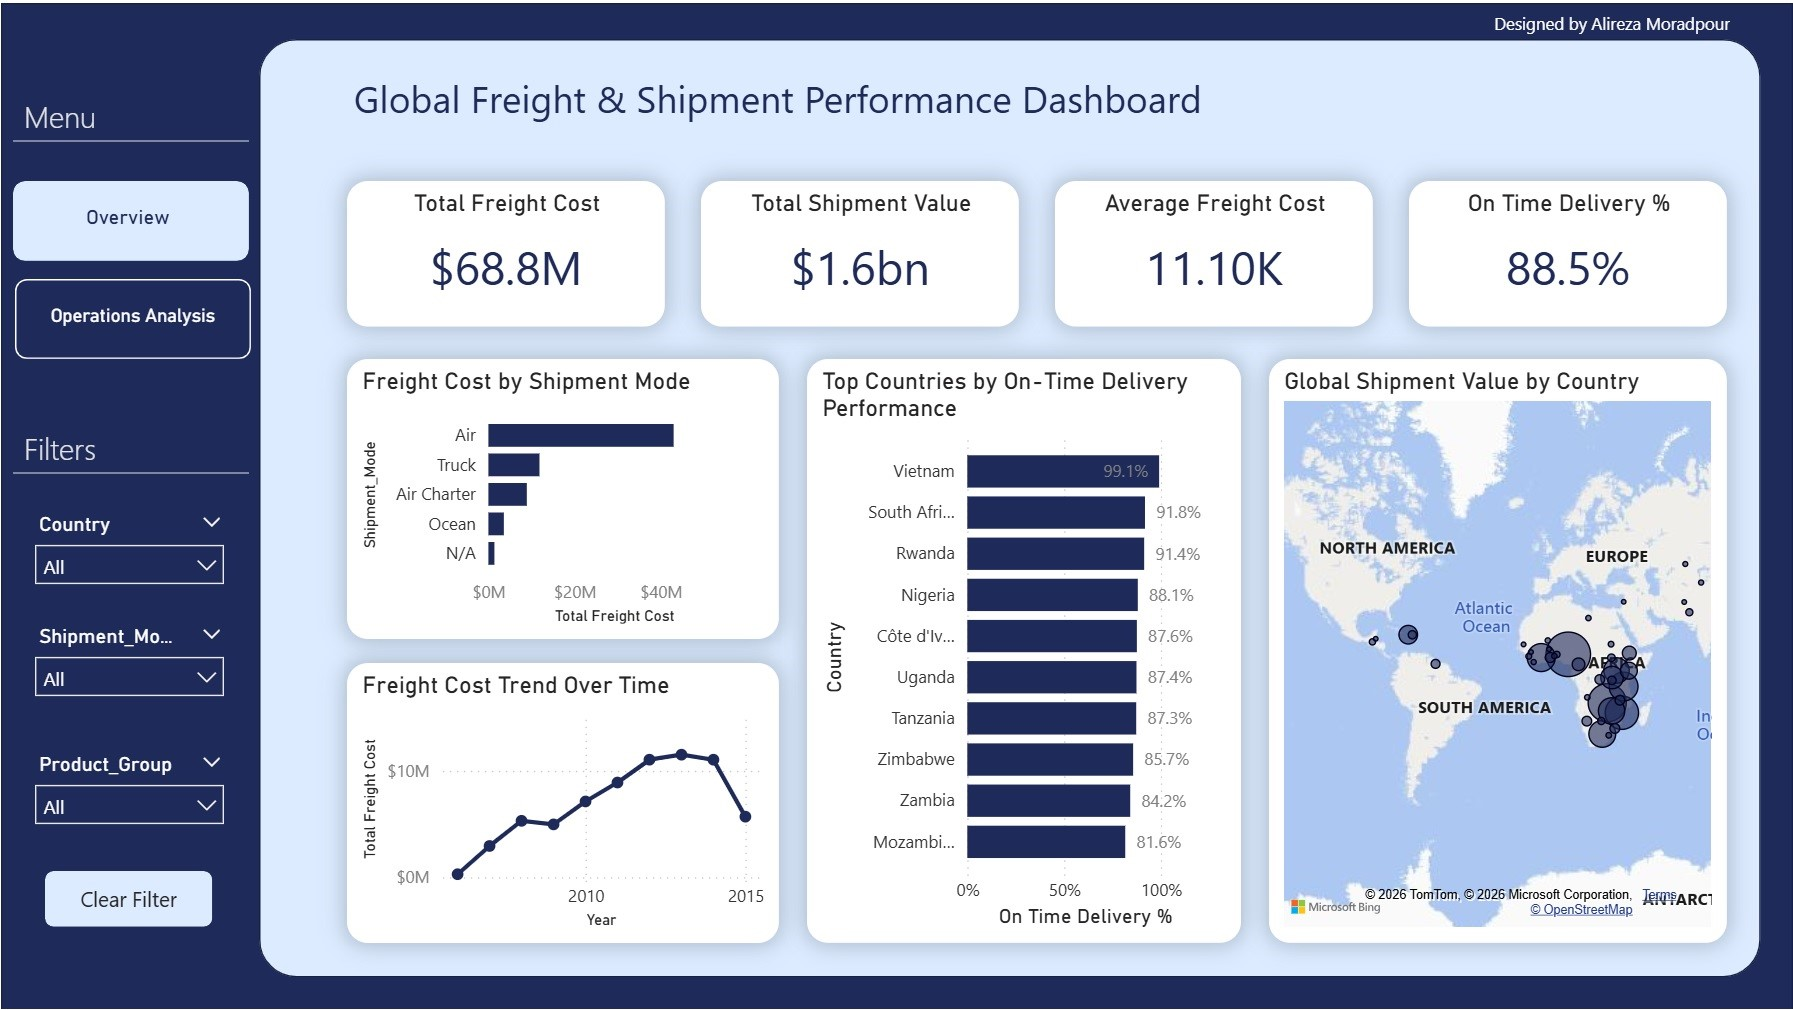

The dashboard page shown, as its layout file describes it:
{"tool":"powerbi","page":{"name":"Overview","canvas":[1280,720],"ordinal":0},"visuals":[{"type":"shape","box":[0,0,1280,720],"z":0},{"type":"shape","box":[184,26.1,1072.6,670.2],"z":1000},{"type":"card","title":"Total Freight Cost","fields":{"Values":["SCMS_Delivery_History_Dataset.Total Freight Cost"]},"box":[247.1,127.1,227,104],"z":2000},{"type":"card","title":"Total Shipment Value","fields":{"Values":["SCMS_Delivery_History_Dataset.Total Shipment Value"]},"box":[500,127.1,227,104],"z":3000},{"type":"card","title":"Average Freight Cost","fields":{"Values":["SCMS_Delivery_History_Dataset.Average Freight Cost"]},"box":[752.9,127.1,227,104],"z":4000},{"type":"card","title":"On Time Delivery %","fields":{"Values":["SCMS_Delivery_History_Dataset.On Time Delivery %"]},"box":[1005.7,127.1,227,104],"z":5000},{"type":"clusteredBarChart","title":"Freight Cost by Shipment Mode","fields":{"Category":["SCMS_Delivery_History_Dataset.Shipment_Mode"],"Y":["SCMS_Delivery_History_Dataset.Total Freight Cost"]},"box":[247.1,254.3,308.6,200],"z":6000},{"type":"map","title":"Global Shipment Value by Country","fields":{"Category":["SCMS_Delivery_History_Dataset.Country"],"Size":["SCMS_Delivery_History_Dataset.Total Shipment Value"]},"box":[905.7,254.3,327.1,417.1],"z":7000},{"type":"clusteredBarChart","title":"Top Countries by On-Time Delivery Performance","fields":{"Category":["SCMS_Delivery_History_Dataset.Country"],"Y":["SCMS_Delivery_History_Dataset.On Time Delivery %"]},"box":[575.7,254.3,310,417.1],"z":8000},{"type":"lineChart","title":"Freight Cost Trend Over Time","fields":{"Category":["SCMS_Delivery_History_Dataset.Delivered_Date.Variation.Date Hierarchy.Year","SCMS_Delivery_History_Dataset.Delivered_Date.Variation.Date Hierarchy.Quarter","SCMS_Delivery_History_Dataset.Delivered_Date.Variation.Date Hierarchy.Month","SCMS_Delivery_History_Dataset.Delivered_Date.Variation.Date Hierarchy.Day"],"Y":["SCMS_Delivery_History_Dataset.Total Freight Cost"]},"box":[247.1,471.4,308.6,200],"z":9000},{"type":"textbox","box":[247.1,44.3,638.6,57.1],"z":10000},{"type":"group","id":"g1","title":"Group 2","box":[10,197.6,168.6,57.1],"z":11000},{"type":"textbox","box":[11.4,61.4,94.3,42.9],"z":12000},{"type":"shape","box":[8.6,84.3,168.6,28.6],"z":13000},{"type":"slicer","fields":{"Values":["SCMS_Delivery_History_Dataset.Country"]},"box":[14.3,359,155.2,149.7],"z":14000},{"type":"slicer","fields":{"Values":["SCMS_Delivery_History_Dataset.Shipment_Mode"]},"box":[14.3,438.7,155.2,149.7],"z":15000},{"type":"slicer","fields":{"Values":["SCMS_Delivery_History_Dataset.Product_Group"]},"box":[14.3,530.7,155.2,149.7],"z":16000},{"type":"shape","box":[7.9,127,168.6,57.1],"z":17000,"group":"g2"},{"type":"actionButton","box":[32.1,619.8,119.5,39.8],"z":17000},{"type":"textbox","box":[40.7,139.1,98.6,32.9],"z":18000,"group":"g2"},{"type":"textbox","box":[11.4,298,94.3,42.9],"z":18000},{"type":"group","id":"g2","title":"Group 3","box":[7.9,127,168.6,57.1],"z":18001,"group":"g3"},{"type":"shape","box":[8.6,320.9,168.6,28.6],"z":19000},{"type":"group","id":"g3","title":"Group 1","box":[7.9,127,168.6,57.1],"z":20000},{"type":"shape","box":[10,197.6,168.6,57.1],"z":20000,"group":"g1"},{"type":"textbox","box":[1050,0,190,28.6],"z":20001},{"type":"textbox","box":[21.4,209,145.7,34.3],"z":20500,"group":"g1"}]}

Visuals, with their boxes on the page's 1280x720 design canvas (x1, y1, x2, y2). These are canvas units, not pixel positions in the 1793x1010 screenshot, which may show the page scaled, cropped or inside an application window:
shape: bbox(0, 0, 1280, 720)
shape: bbox(184, 26, 1257, 696)
"Total Freight Cost" card: bbox(247, 127, 474, 231)
"Total Shipment Value" card: bbox(500, 127, 727, 231)
"Average Freight Cost" card: bbox(753, 127, 980, 231)
"On Time Delivery %" card: bbox(1006, 127, 1233, 231)
"Freight Cost by Shipment Mode" clusteredBarChart: bbox(247, 254, 556, 454)
"Global Shipment Value by Country" map: bbox(906, 254, 1233, 671)
"Top Countries by On-Time Delivery Performance" clusteredBarChart: bbox(576, 254, 886, 671)
"Freight Cost Trend Over Time" lineChart: bbox(247, 471, 556, 671)
textbox: bbox(247, 44, 886, 101)
"Group 2" group: bbox(10, 198, 179, 255)
textbox: bbox(11, 61, 106, 104)
shape: bbox(9, 84, 177, 113)
slicer - SCMS_Delivery_History_Dataset.Country: bbox(14, 359, 170, 509)
slicer - SCMS_Delivery_History_Dataset.Shipment_Mode: bbox(14, 439, 170, 588)
slicer - SCMS_Delivery_History_Dataset.Product_Group: bbox(14, 531, 170, 680)
shape: bbox(8, 127, 176, 184)
actionButton: bbox(32, 620, 152, 660)
textbox: bbox(41, 139, 139, 172)
textbox: bbox(11, 298, 106, 341)
"Group 3" group: bbox(8, 127, 176, 184)
shape: bbox(9, 321, 177, 350)
"Group 1" group: bbox(8, 127, 176, 184)
shape: bbox(10, 198, 179, 255)
textbox: bbox(1050, 0, 1240, 29)
textbox: bbox(21, 209, 167, 243)
